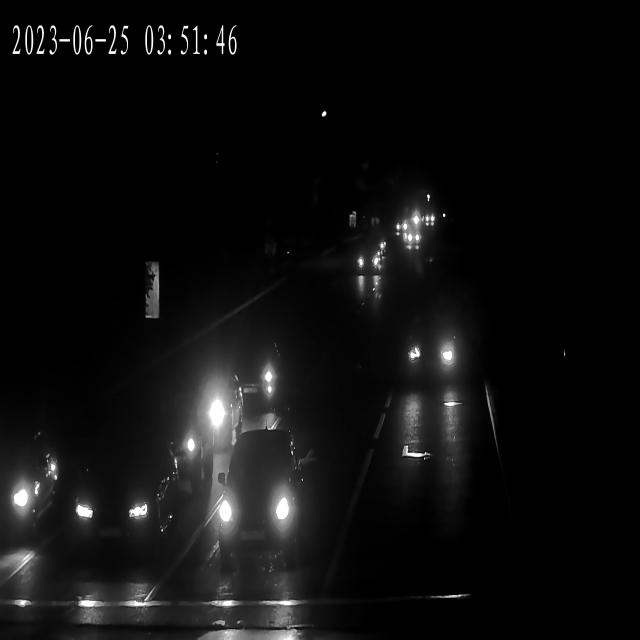Car: (57, 441, 172, 558), (218, 432, 308, 554), (151, 367, 243, 453), (0, 426, 58, 545), (219, 330, 285, 402), (397, 318, 463, 382), (352, 244, 382, 276), (363, 232, 389, 255), (402, 231, 422, 249), (411, 215, 431, 228), (392, 219, 408, 234), (414, 215, 434, 227), (406, 213, 422, 227)
